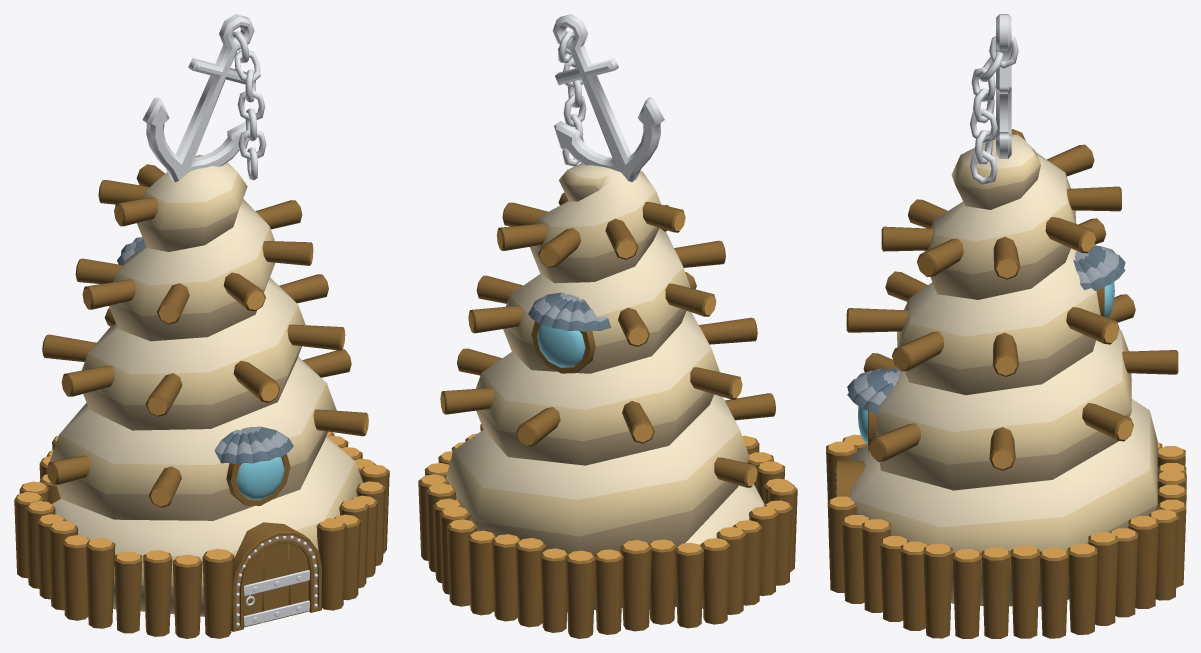
The model's file is House_4.fbx.
The picture shows the model from 3 angles, left to right: view 1: azimuth 30°, elevation 25°; view 2: azimuth 150°, elevation 25°; view 3: azimuth 270°, elevation 25°; orthographic projection. The views are drawn at different scales.
Parts seen in each view (by area): view 1: House_4; view 2: House_4; view 3: House_4.
Part boxes in pixels (box(x1,y1,x2,y2)): House_4: box(14, 14, 389, 638); House_4: box(418, 14, 797, 638); House_4: box(826, 14, 1186, 638).
Bounding box in the file's own units: 2.7 × 4.39 × 2.55.
